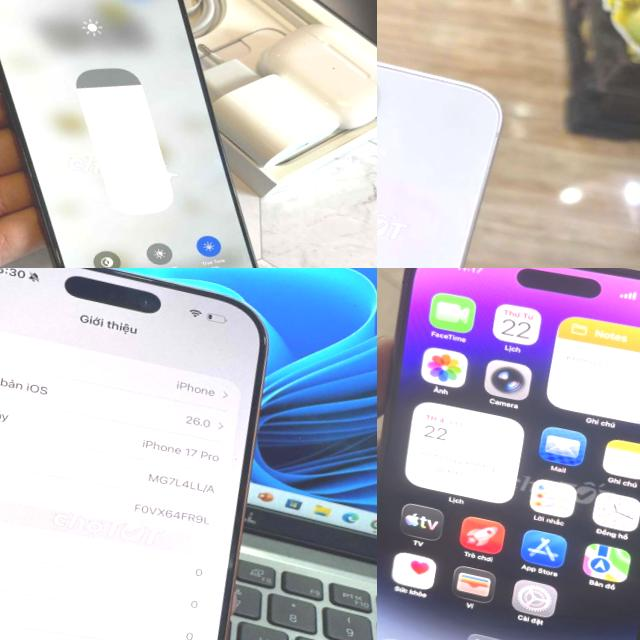gen_12_13: (377, 24, 504, 268)
gen_14: (377, 268, 640, 640)
gen_15: (0, 0, 332, 268)
gen_17: (0, 268, 318, 640)
